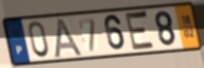0: (28, 20, 50, 59)
6: (103, 13, 126, 53)
7: (78, 18, 97, 53)
8: (154, 10, 178, 48)
A: (52, 16, 84, 59)
E: (123, 9, 157, 52)
